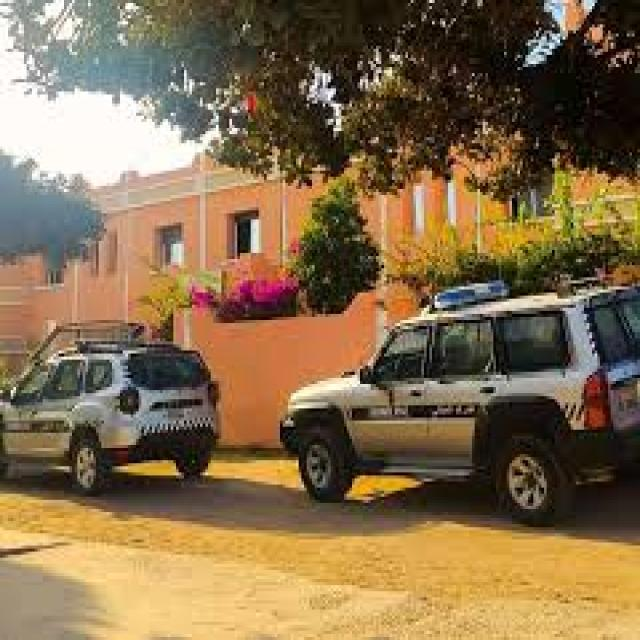gendarme car: (278, 273, 638, 528), (0, 313, 235, 512)
